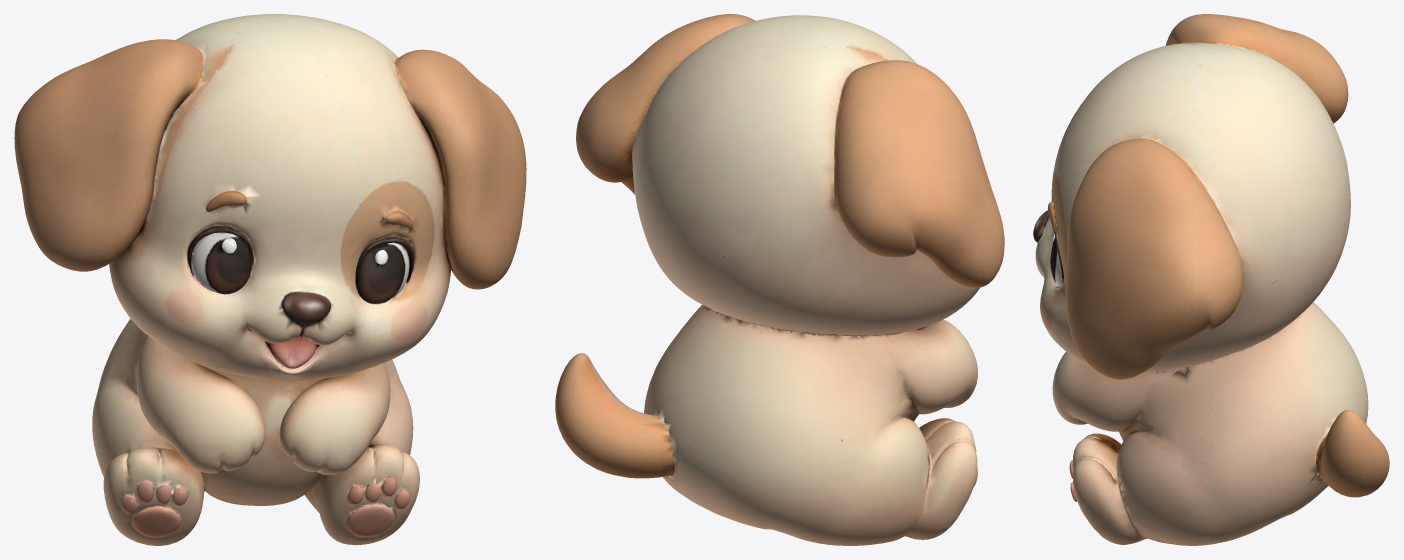
The model's file is model-mobile-v001.glb.
3 views of the same model, side by side, from view 1: azimuth 30°, elevation 25°; view 2: azimuth 150°, elevation 25°; view 3: azimuth 270°, elevation 25° (orthographic). The views are drawn at different scales.
Parts seen in each view (by area): view 1: tmp8m593pwwobj; view 2: tmp8m593pwwobj; view 3: tmp8m593pwwobj.
Boxes of the visible parts, left/top/right/bottom form: tmp8m593pwwobj: left=14, top=14, right=526, bottom=545; tmp8m593pwwobj: left=555, top=14, right=1004, bottom=545; tmp8m593pwwobj: left=1033, top=14, right=1389, bottom=545.
Bounding box in the file's own units: 0.9448 × 0.9998 × 0.7018.
Materials: 1 (1 with a texture image).
